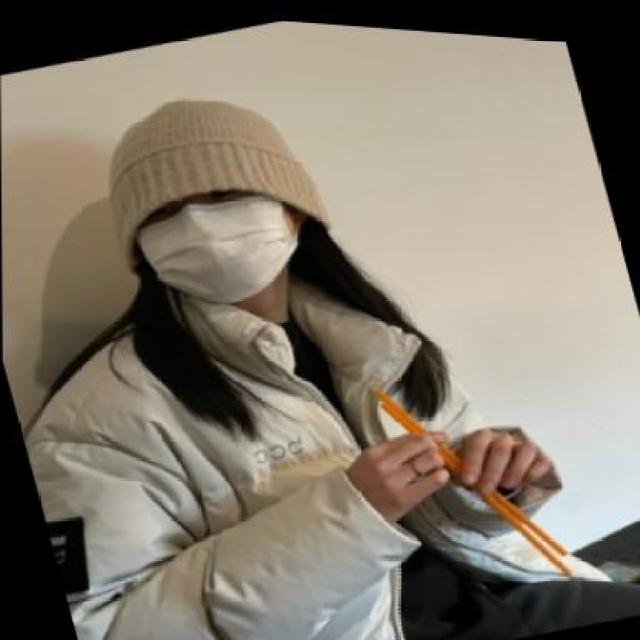hat: (85, 57, 333, 269)
